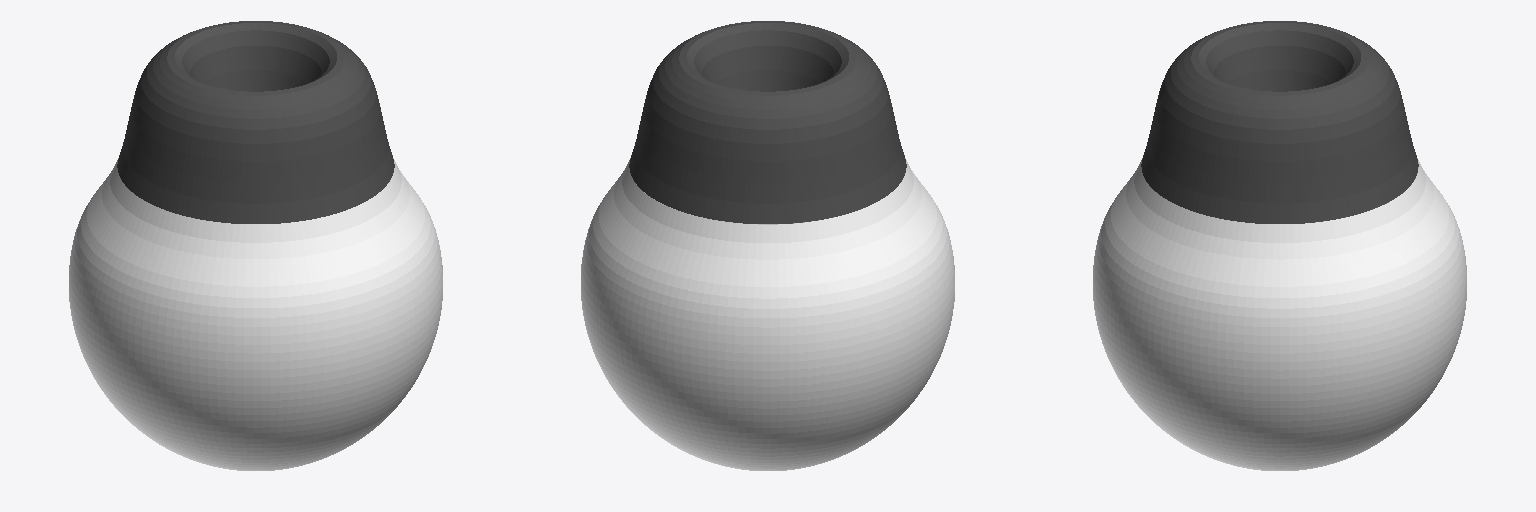
File: bulb.obj
The picture shows the model from 3 angles: view 1: azimuth 30°, elevation 25°; view 2: azimuth 150°, elevation 25°; view 3: azimuth 270°, elevation 25°; orthographic projection.
Parts seen in each view (by area): view 1: Sphere_light_0, Sphere_metal_0; view 2: Sphere_light_0, Sphere_metal_0; view 3: Sphere_light_0, Sphere_metal_0.
Boxes of the visible parts, <box> form: Sphere_light_0: <box>69,158,442,470</box>; Sphere_metal_0: <box>117,21,394,223</box>; Sphere_light_0: <box>581,158,954,470</box>; Sphere_metal_0: <box>629,21,906,223</box>; Sphere_light_0: <box>1093,158,1466,470</box>; Sphere_metal_0: <box>1141,21,1418,223</box>.
Bounding box in the file's own units: 0.2021 × 0.2364 × 0.2021.